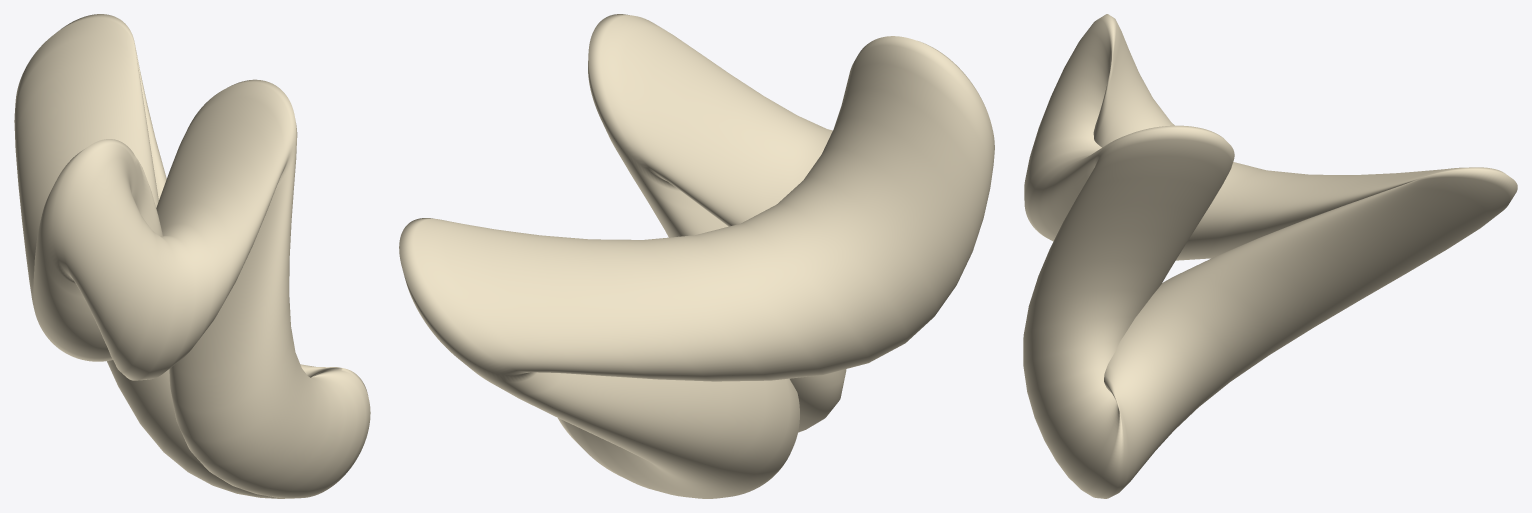
The picture shows the model from 3 angles, left to right: view 1: azimuth 30°, elevation 25°; view 2: azimuth 150°, elevation 25°; view 3: azimuth 270°, elevation 25°; orthographic projection. The views are drawn at different scales.
Visible parts, largest first — view 1: RT_E; view 2: RT_E; view 3: RT_E.
Boxes of the visible parts, x1=… form: RT_E: x1=14, y1=14, x2=370, y2=498; RT_E: x1=399, y1=14, x2=994, y2=498; RT_E: x1=1023, y1=14, x2=1517, y2=498.
Size of the model in its own units: 8.38 by 9.5 by 11.18.
